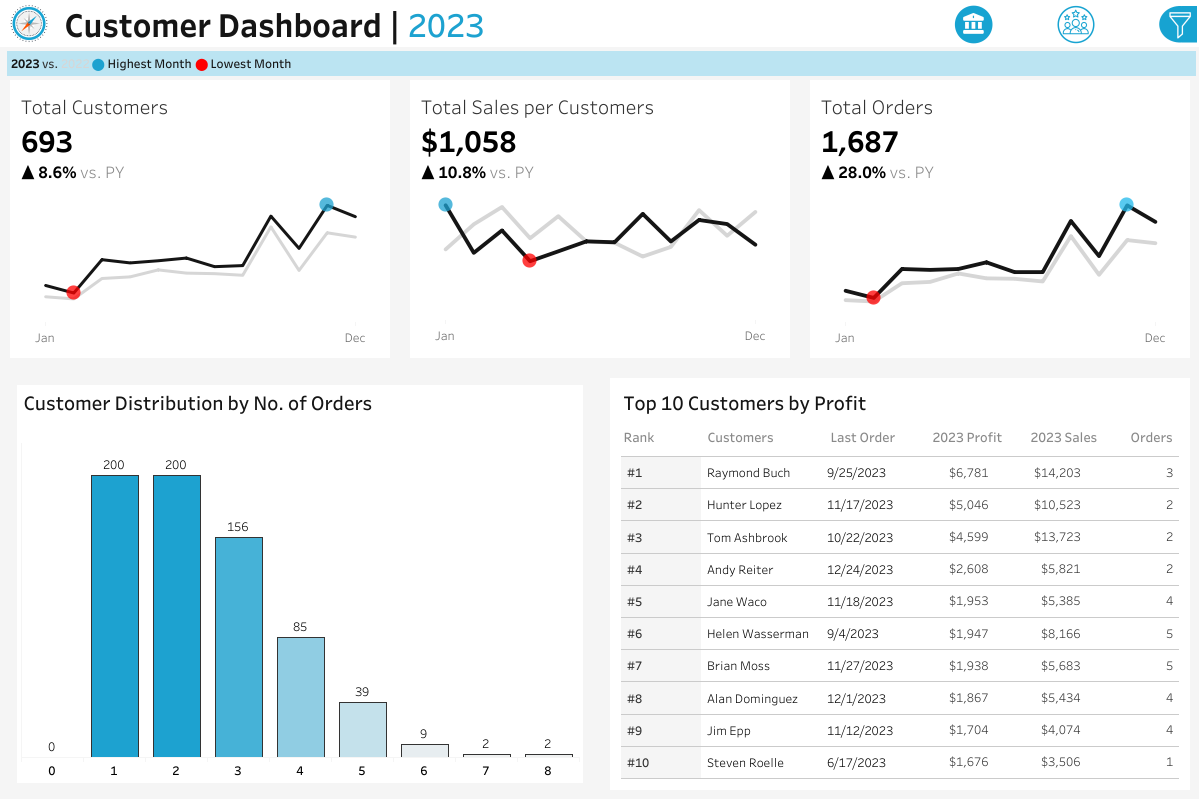

Layout of this report page (visuals, bound fields, positions):
{"tool":"tableau","page":{"name":"Customer Dashboard ","canvas":[1200,800],"ordinal":0},"visuals":[{"type":"image","param":"C:/Users/hp/Downloads/Success path/TABLEAU/TableauProject-SalesDashboard/Icons/I","box":[0,0,58,47]},{"type":"text","box":[58,0,1142,47]},{"type":"dashboard-object","box":[922,1,103,47]},{"type":"dashboard-object","box":[1025,1,102,47]},{"type":"blank","box":[956,10,232,51]},{"type":"worksheet","title":"Legend KPI","mark":"Automatic","box":[0,47,1200,33]},{"type":"text","box":[956,61,232,32]},{"type":"worksheet","title":"Total Customers","mark":"Line","rows":["Min/Max Quantity (copy)_803329651530162184"],"cols":["Order Date"],"box":[0,80,400,288]},{"type":"worksheet","title":"Total Sales/Customer","mark":"Automatic","rows":["Min/Max Customer (copy)_803329651556556812"],"cols":["Order Date"],"box":[400,80,400,288]},{"type":"worksheet","title":"Total Orders","mark":"Line","rows":["Calculation_326792514404958213"],"cols":["Order Date"],"box":[800,80,400,288]},{"type":"parameter","param":"[Parameters].[Parameter 1]","box":[956,93,232,52]},{"type":"blank","box":[956,145,232,32]},{"type":"text","box":[956,177,232,29]},{"type":"filter","title":"Legend KPI","param":"[federated.0uw51l70mxvgwb10nkyxf0ydap6d].[none:Category:nk]","box":[956,206,232,52]},{"type":"filter","title":"Legend KPI","param":"[federated.0uw51l70mxvgwb10nkyxf0ydap6d].[none:Sub-Category:nk]","box":[956,258,232,52]},{"type":"blank","box":[956,310,232,32]},{"type":"text","box":[956,342,232,29]},{"type":"filter","title":"Legend KPI","param":"[federated.0uw51l70mxvgwb10nkyxf0ydap6d].[none:Region:nk]","box":[956,371,232,52]},{"type":"text","box":[17,385,566,34]},{"type":"text","box":[617,385,566,34]},{"type":"text","box":[617,419,84,32]},{"type":"text","box":[701,419,123,32]},{"type":"text","box":[824,419,102,32]},{"type":"text","box":[926,419,98,32]},{"type":"text","box":[1024,419,100,32]},{"type":"text","box":[1124,419,59,32]},{"type":"filter","title":"Legend KPI","param":"[federated.0uw51l70mxvgwb10nkyxf0ydap6d].[none:State:nk]","box":[956,423,232,52]},{"type":"worksheet","title":"Customer Distribution","mark":"Bar","rows":["CY Sales (copy)_803329651518648321"],"cols":["Calculation_803329651702153242"],"box":[17,439.3,566,343.7]},{"type":"worksheet","title":"Top Customers","mark":"Automatic","rows":["Calculation_803329651719901212","Customer Name","Order Date"],"box":[617,451,566,332]},{"type":"filter","title":"Legend KPI","param":"[federated.0uw51l70mxvgwb10nkyxf0ydap6d].[none:City:nk]","box":[956,475,232,52]}]}

Visuals, with their boxes in screenshot pixels (x1, y1, x2, y2), scaled from the page's 1200x800 canvas onto the 1199x799 screenshot:
image: crop(0, 0, 58, 47)
text: crop(58, 0, 1198, 47)
dashboard-object: crop(921, 1, 1024, 48)
dashboard-object: crop(1024, 1, 1126, 48)
blank: crop(955, 10, 1187, 61)
"Legend KPI" worksheet: crop(0, 47, 1198, 80)
text: crop(955, 61, 1187, 93)
"Total Customers" worksheet (Line marks): crop(0, 80, 400, 368)
"Total Sales/Customer" worksheet: crop(400, 80, 799, 368)
"Total Orders" worksheet (Line marks): crop(799, 80, 1198, 368)
parameter: crop(955, 93, 1187, 145)
blank: crop(955, 145, 1187, 177)
text: crop(955, 177, 1187, 206)
"Legend KPI" filter: crop(955, 206, 1187, 258)
"Legend KPI" filter: crop(955, 258, 1187, 310)
blank: crop(955, 310, 1187, 342)
text: crop(955, 342, 1187, 371)
"Legend KPI" filter: crop(955, 371, 1187, 422)
text: crop(17, 385, 583, 418)
text: crop(616, 385, 1182, 418)
text: crop(616, 418, 700, 450)
text: crop(700, 418, 823, 450)
text: crop(823, 418, 925, 450)
text: crop(925, 418, 1023, 450)
text: crop(1023, 418, 1123, 450)
text: crop(1123, 418, 1182, 450)
"Legend KPI" filter: crop(955, 422, 1187, 474)
"Customer Distribution" worksheet (Bar marks): crop(17, 439, 583, 782)
"Top Customers" worksheet: crop(616, 450, 1182, 782)
"Legend KPI" filter: crop(955, 474, 1187, 526)
